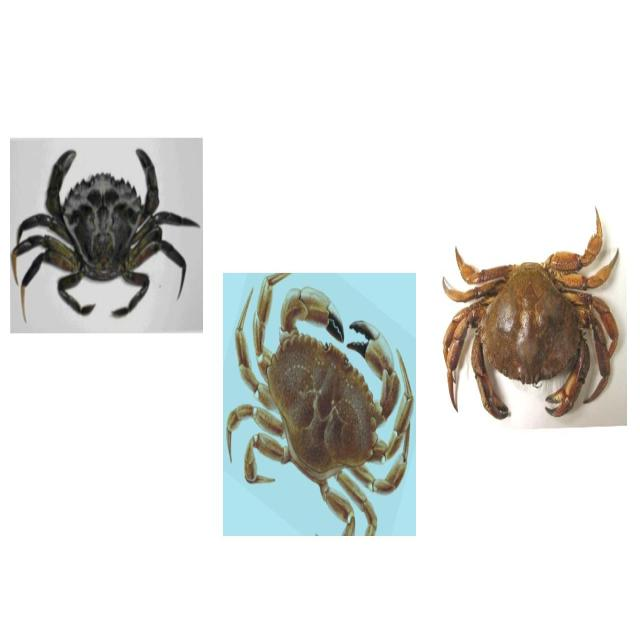egc: (10, 140, 202, 336)
jonah_crab: (224, 274, 418, 540)
rock_crab: (441, 205, 619, 427)
